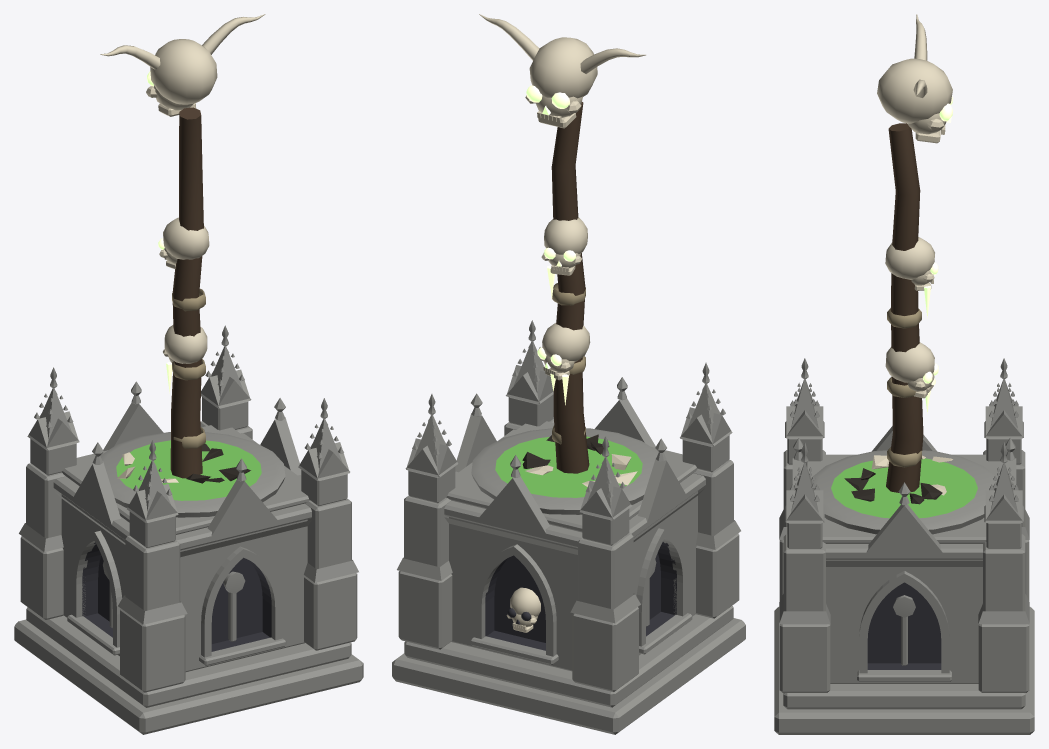
The model's file is tower_plague_2.glb.
3 views of the same model, side by side, from view 1: azimuth 30°, elevation 25°; view 2: azimuth 150°, elevation 25°; view 3: azimuth 270°, elevation 25° (orthographic).
Visible parts, largest first — view 1: tower; view 2: tower; view 3: tower.
Part boxes in pixels (box(x1,y1,x2,y2)): tower: box(14, 14, 363, 734); tower: box(392, 14, 745, 734); tower: box(774, 14, 1034, 734).
Bounding box in the file's own units: 1.7 × 4.52 × 1.7.
